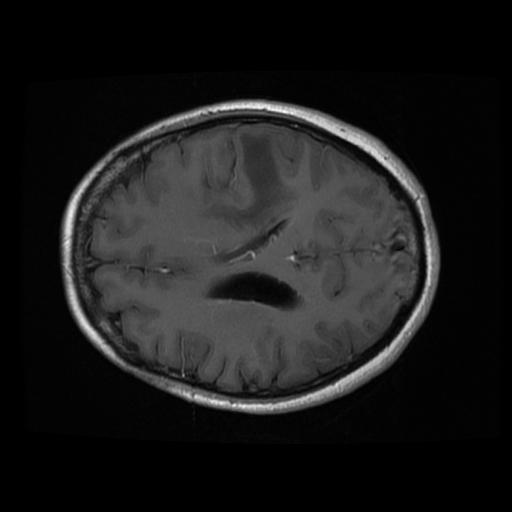glioma: (206, 131, 294, 226)
